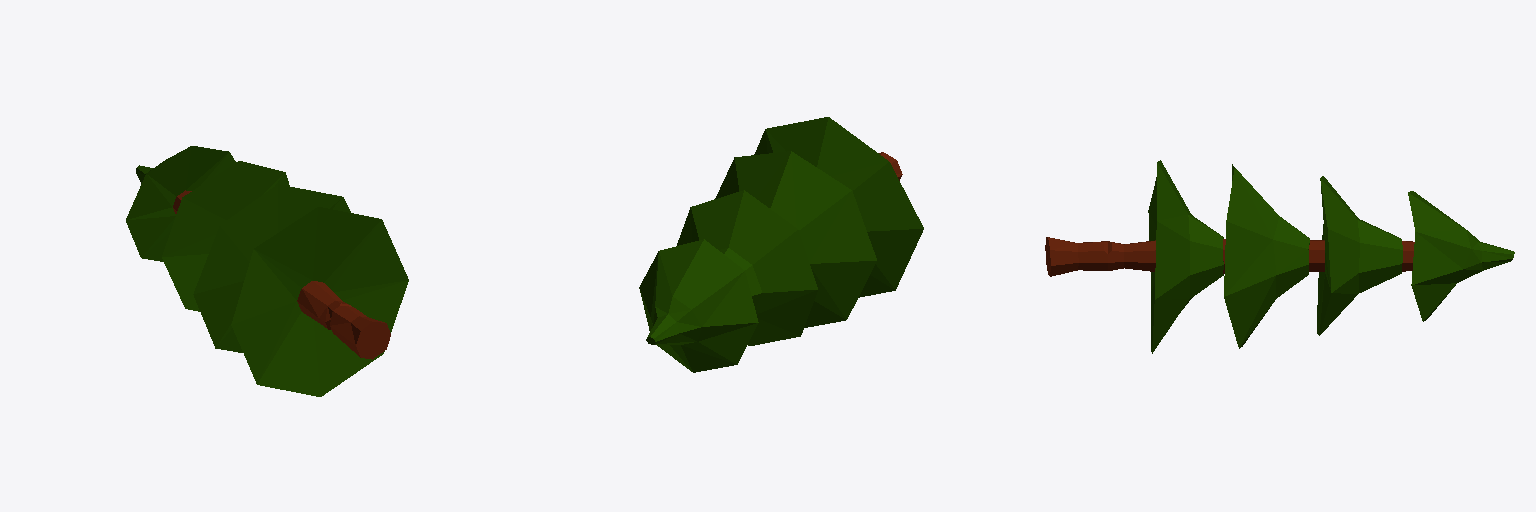
File: tree_lowpoly.obj
3 views of the same model, side by side, from view 1: azimuth 30°, elevation 25°; view 2: azimuth 150°, elevation 25°; view 3: azimuth 270°, elevation 25° (orthographic).
Visible parts, largest first — view 1: Low_Poly_Tree_4_Cylinder.043; view 2: Low_Poly_Tree_4_Cylinder.043; view 3: Low_Poly_Tree_4_Cylinder.043.
Boxes of the visible parts, x1=… form: Low_Poly_Tree_4_Cylinder.043: x1=126, y1=146, x2=408, y2=396; Low_Poly_Tree_4_Cylinder.043: x1=639, y1=117, x2=923, y2=372; Low_Poly_Tree_4_Cylinder.043: x1=1045, y1=160, x2=1514, y2=353.
Size of the model in its own units: 4.07 by 4.04 by 9.13.